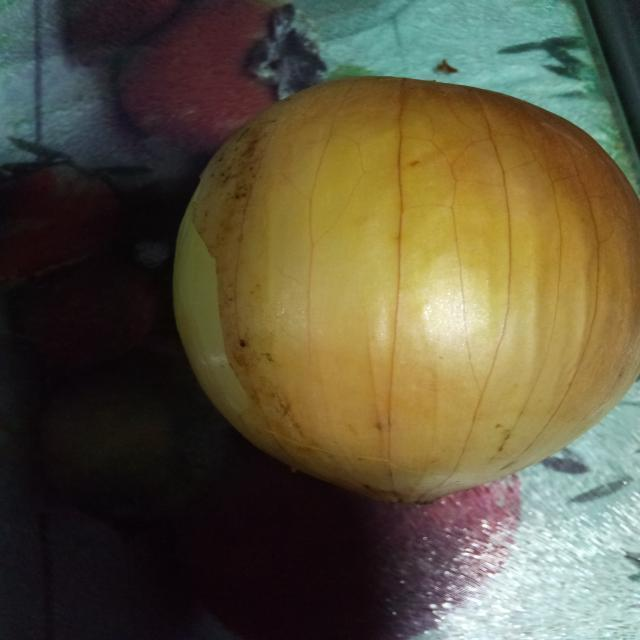Onion: (172, 75, 640, 507)
